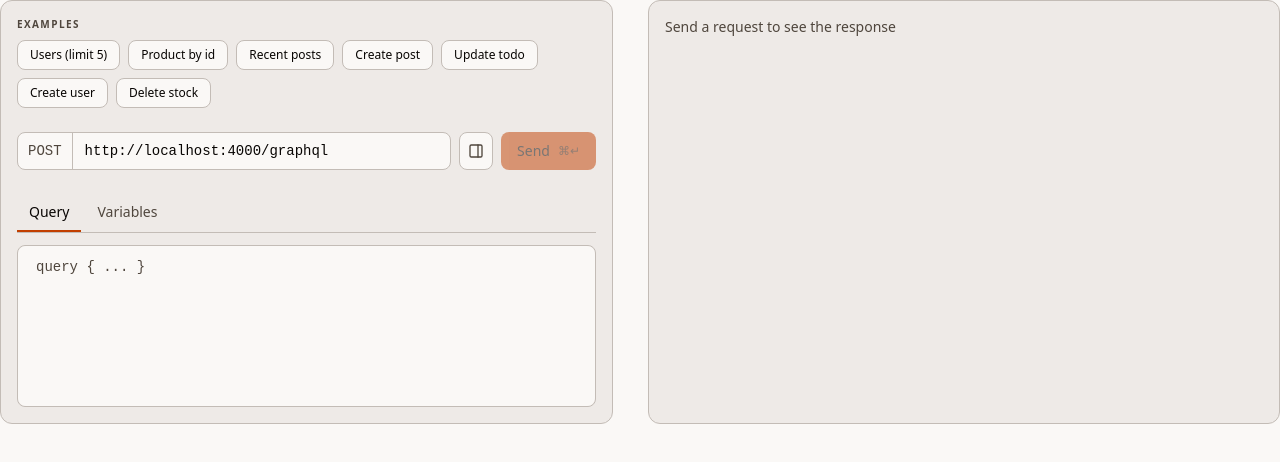
Test case: Playground GraphQL — GraphqlPanel › renders GraphQL errors payload in the response body
This screenshot has width=1280, height=462.
What coordinates should you click on to do the following:
click the button "Users (limit 5)"
I would click on:
 (69, 55)
Its box is [17, 40, 120, 70].
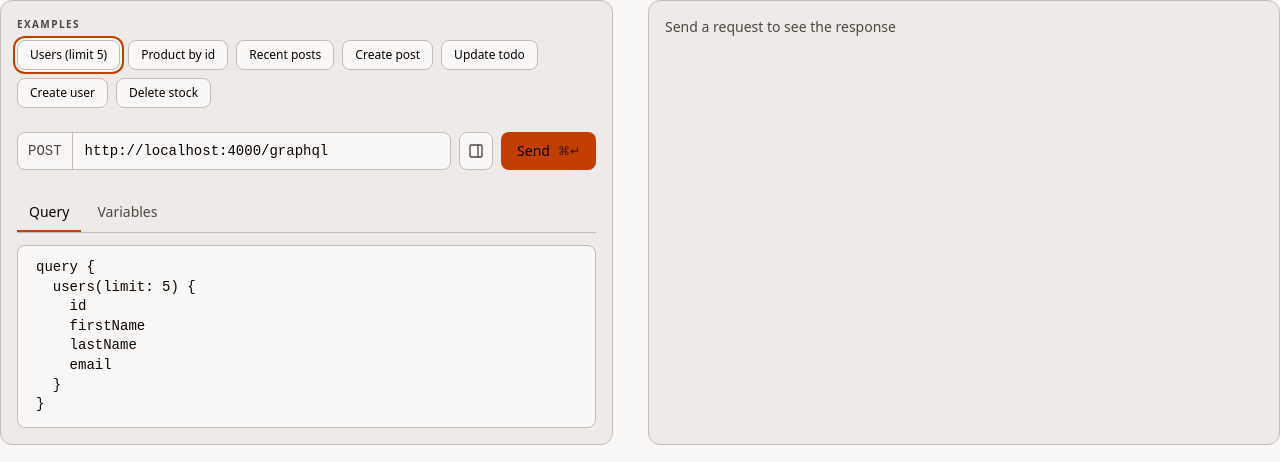
What coordinates should you click on to do the following:
click the button "Send ⌘↵"
I would click on:
 (549, 151)
Its box is [501, 132, 596, 170].
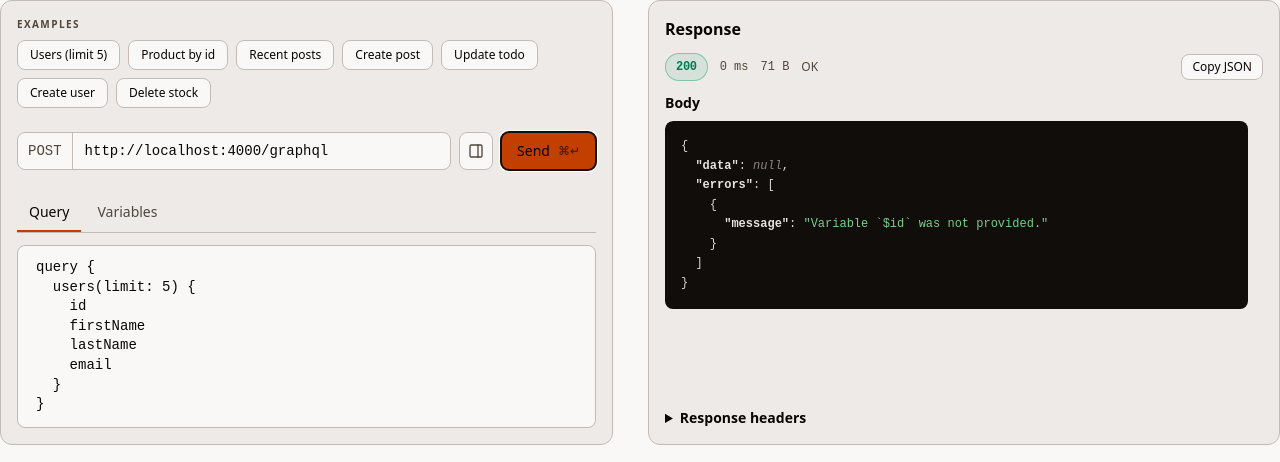
Check: the text "200" is shown, box [665, 53, 708, 81]
Check: the text "\"Variable `$id` was not provided.\"" is shown, box [803, 217, 1048, 231]
